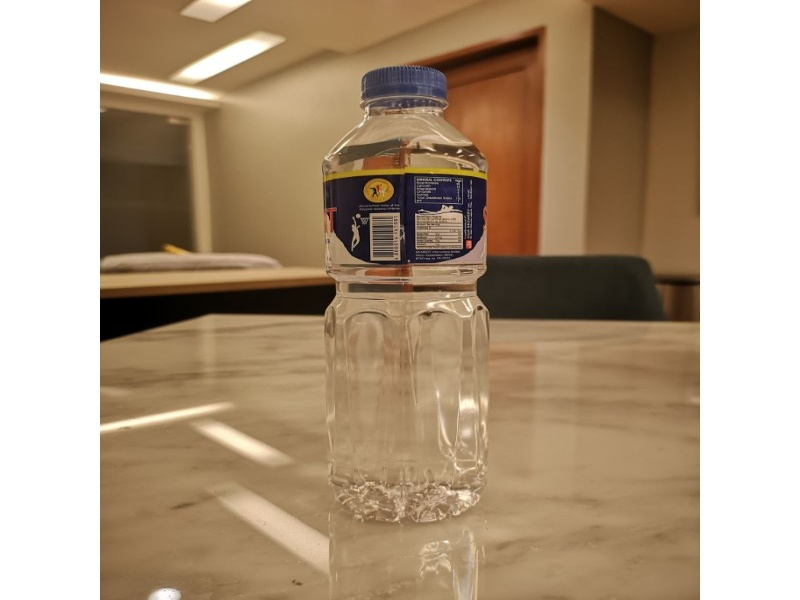PET #1: (318, 60, 495, 527)
